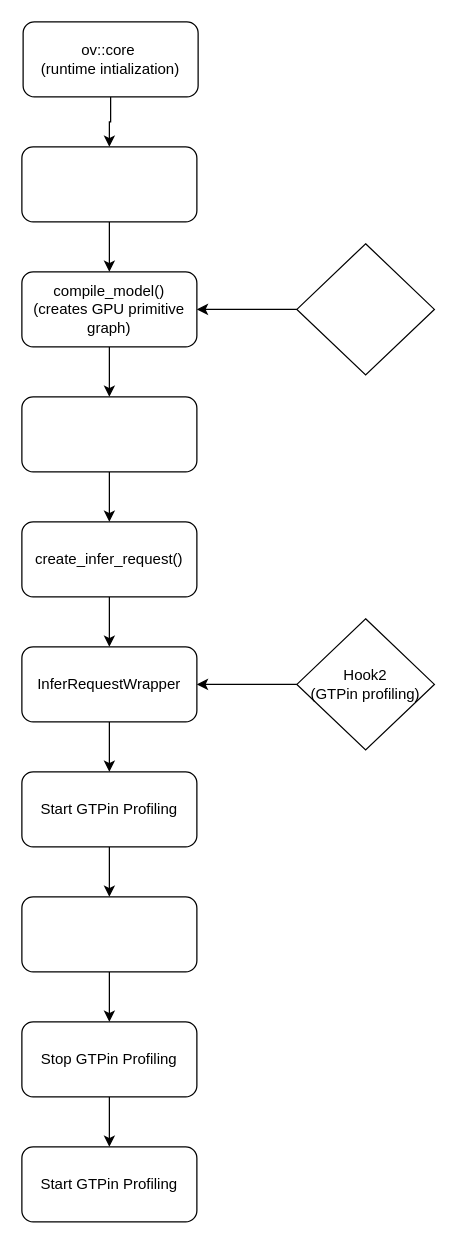
This 456x1244 diagram has some shape labels left out. Here are the shapes that lost their labels. From the top down, the centre of each, then its label:
the point at 109,184: loading pre-trained model
the point at 365,308: Hook1 (enable_GTPin)
the point at 109,434: CompiledModel object
the point at 109,934: infer() (launches GPU kernels)
